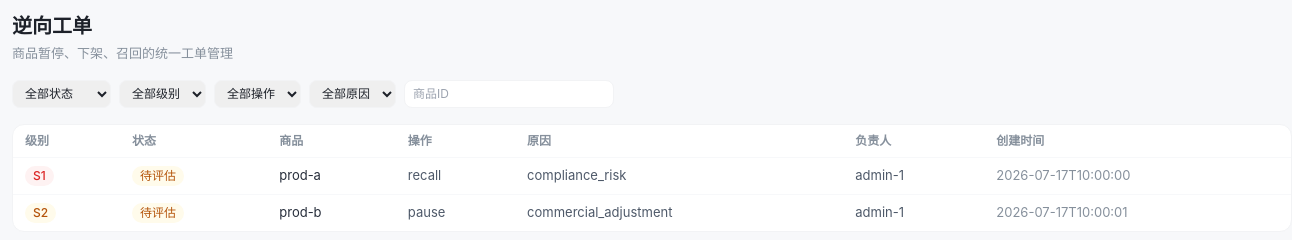
ReverseWorkOrderList › filters by status, severity, action, reason, and product ID
Filter by severity S1
Select "S1" in the dropdown with test id "filter-severity" at (162, 94), box [119,80,206,108]
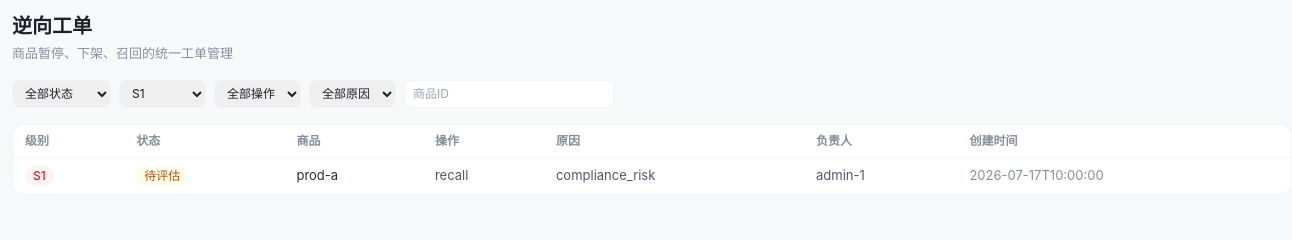
Expected: the number of rows with test id "wo-row" is 1, [13,157,1291,194]
Clear and filter by product
Select "全部级别" in the dropdown with test id "filter-severity" at (162, 94), box [119,80,206,108]
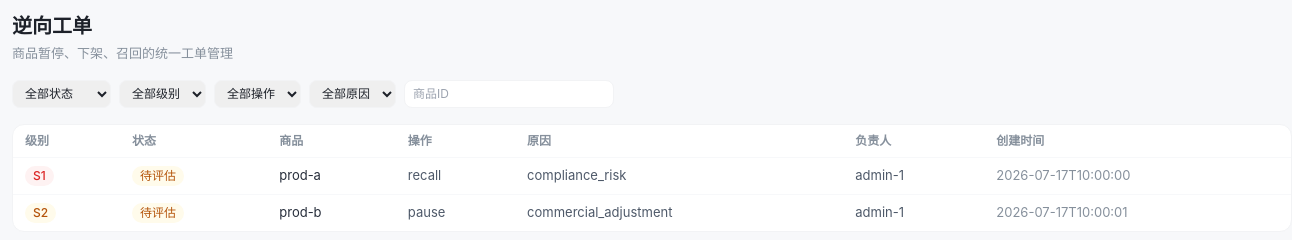
Type "prod-b" into the field with test id "filter-product" at (509, 94), box [404,80,614,108]
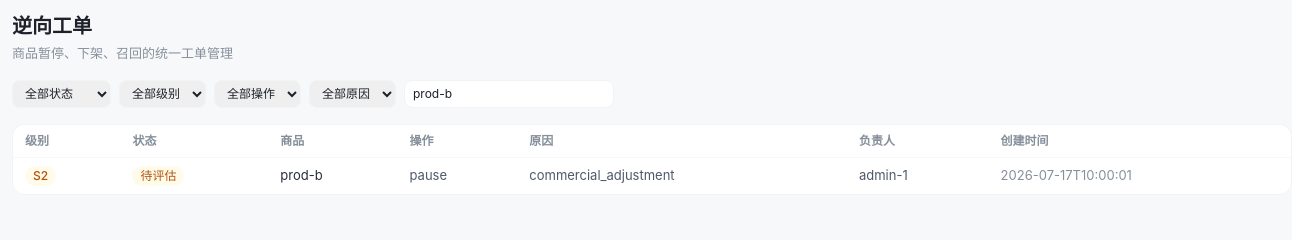
Expected: the number of rows with test id "wo-row" is 1, [13,157,1291,194]
